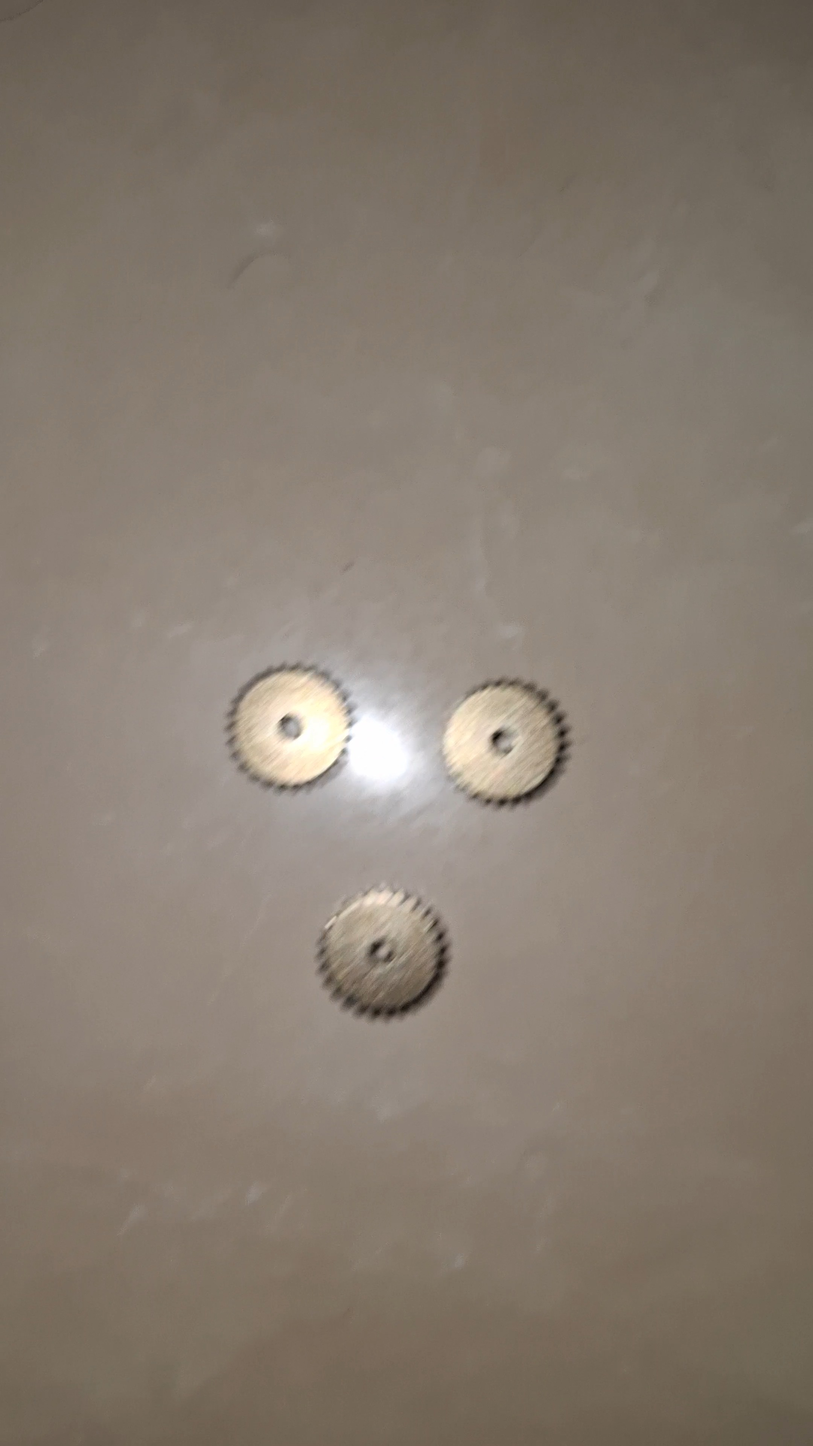spur gear: (318, 885, 447, 1016), (227, 666, 352, 789), (443, 681, 566, 804)
